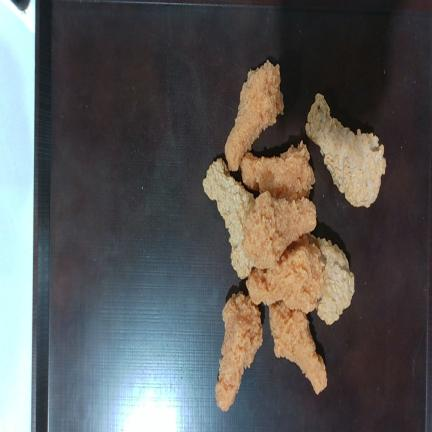chicken: (305, 93, 386, 206), (225, 60, 284, 170), (202, 158, 255, 278), (246, 236, 324, 313), (242, 191, 316, 269), (215, 292, 263, 411), (270, 301, 327, 394), (241, 141, 315, 200), (309, 235, 354, 325)
